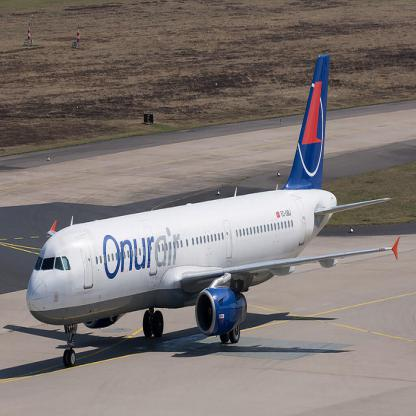CIV_Plane: (23, 46, 402, 374)
